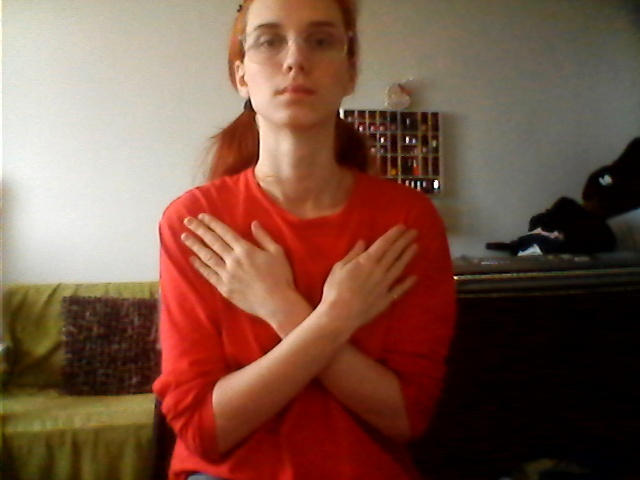z: (168, 203, 446, 453)
